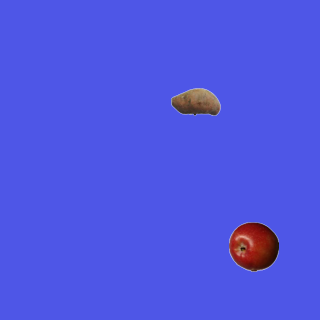Apple Braeburn: (228, 221, 278, 271)
Potato Sweet: (170, 76, 220, 126)
